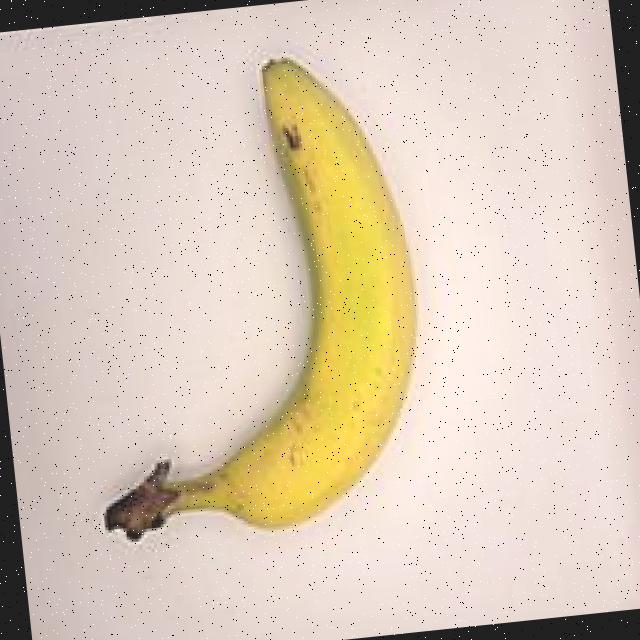Ripe: (34, 30, 474, 557)
